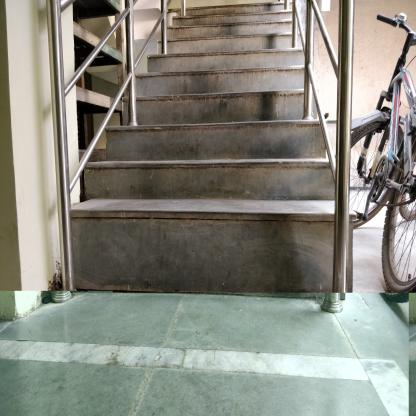stairs: (188, 2, 283, 312)
